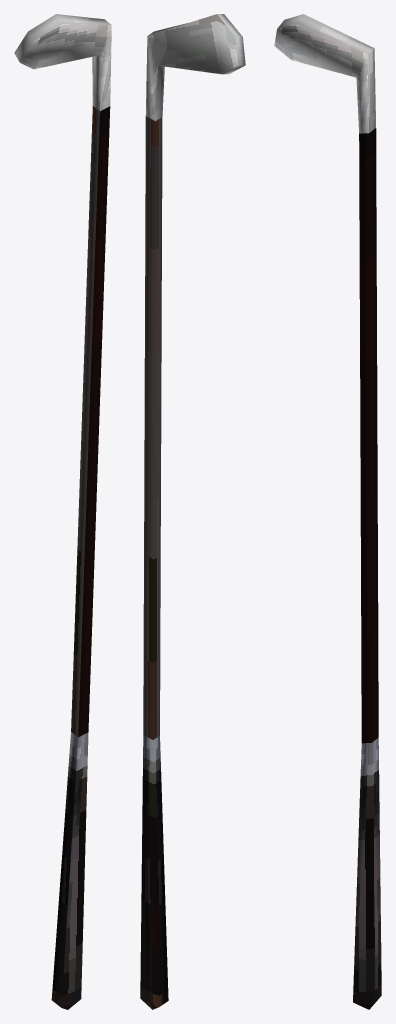
Rendered from GolfClub.fbx.
3 views of the same model, side by side, from view 1: azimuth 30°, elevation 25°; view 2: azimuth 150°, elevation 25°; view 3: azimuth 330°, elevation 25° (orthographic). The views are drawn at different scales.
Visible parts, largest first — view 1: golfclub; view 2: golfclub; view 3: golfclub.
Boxes of the visible parts, x1=… form: golfclub: x1=14, y1=14, x2=111, y2=1009; golfclub: x1=140, y1=14, x2=245, y2=1009; golfclub: x1=274, y1=14, x2=381, y2=1009.
Bounding box in the file's own units: 9.56 × 100 × 6.9.
Materials: 1 (1 with a texture image).
